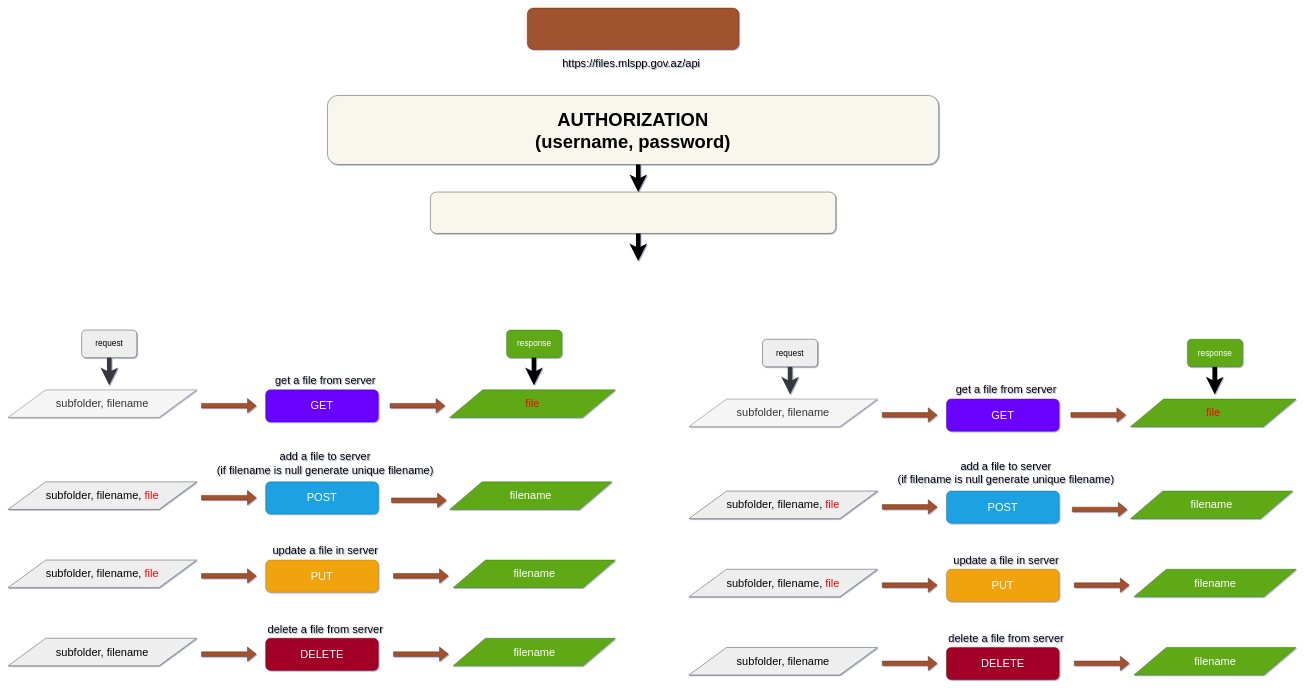
Image size: 1307x690. Some labels were removed from this diagram. Each missing label, with the centre of its shape:
FILESERVER API: point (633, 28)
rootfolder = username: point (633, 212)
